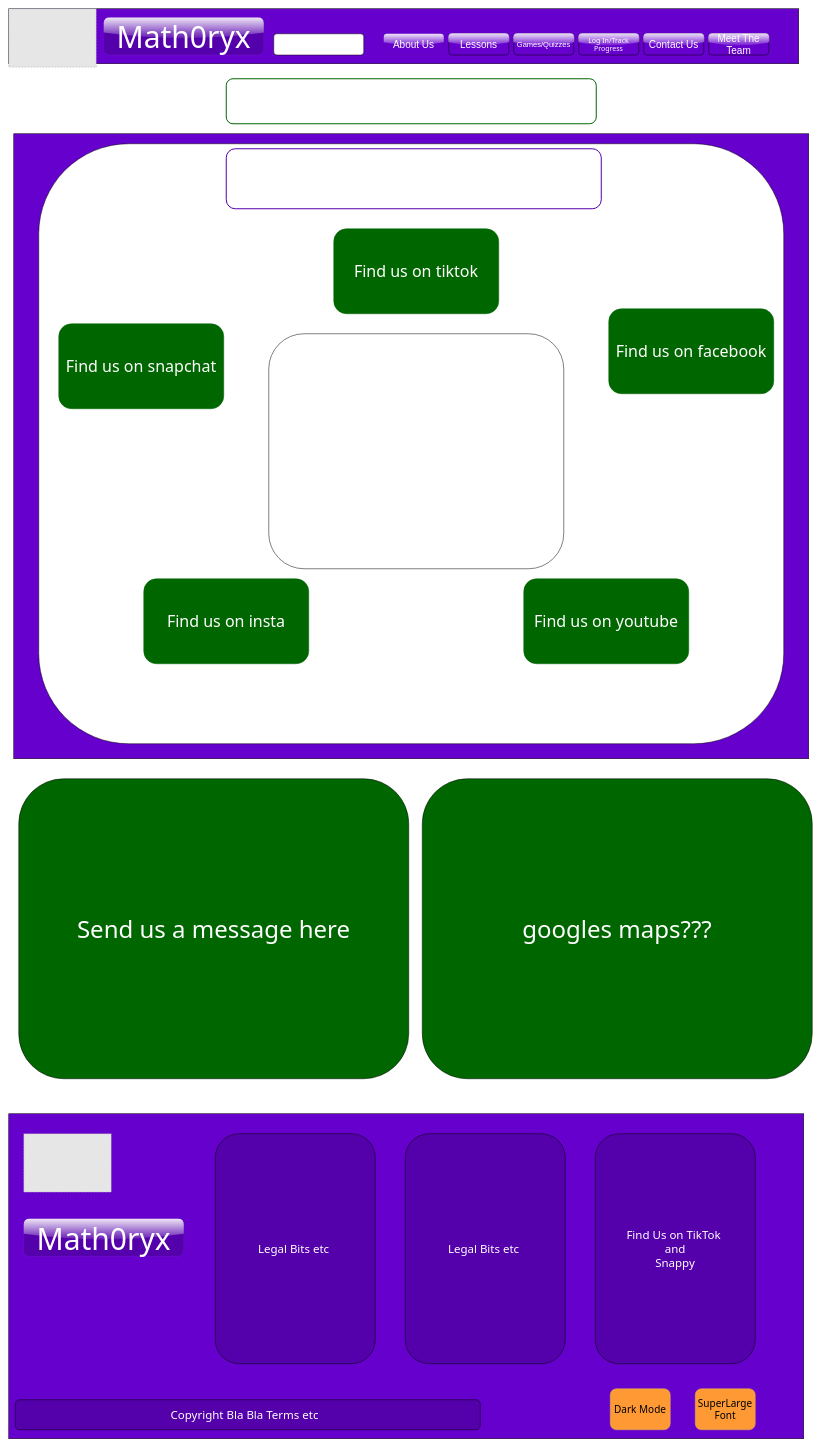
Some shapes in this 821 by 1448 pixel diagram are drawn without their labels. Grey dashed boxes stand in for pictures. Here are the shapes that lost their labels. From the top down, the centre of each, then its label:
point (318, 44): Search Bar
point (411, 101): Contact Us Now
point (414, 178): Everyone is a maths person Join millions learners online
point (416, 451): Image which says all inclusive
